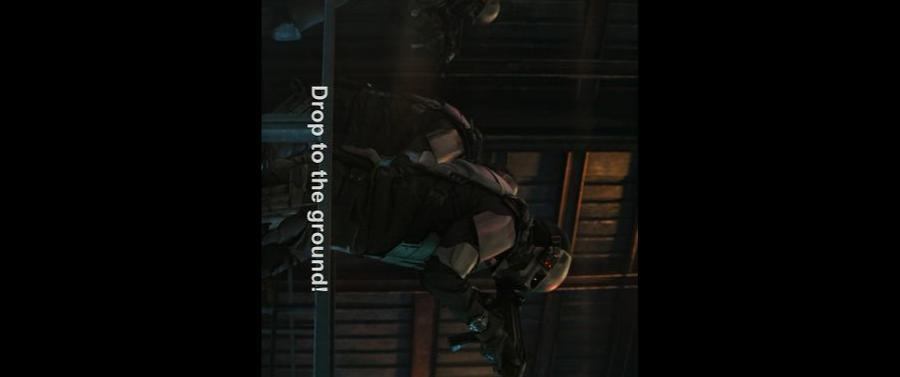gun: (441, 275, 531, 377), (408, 4, 467, 73)
